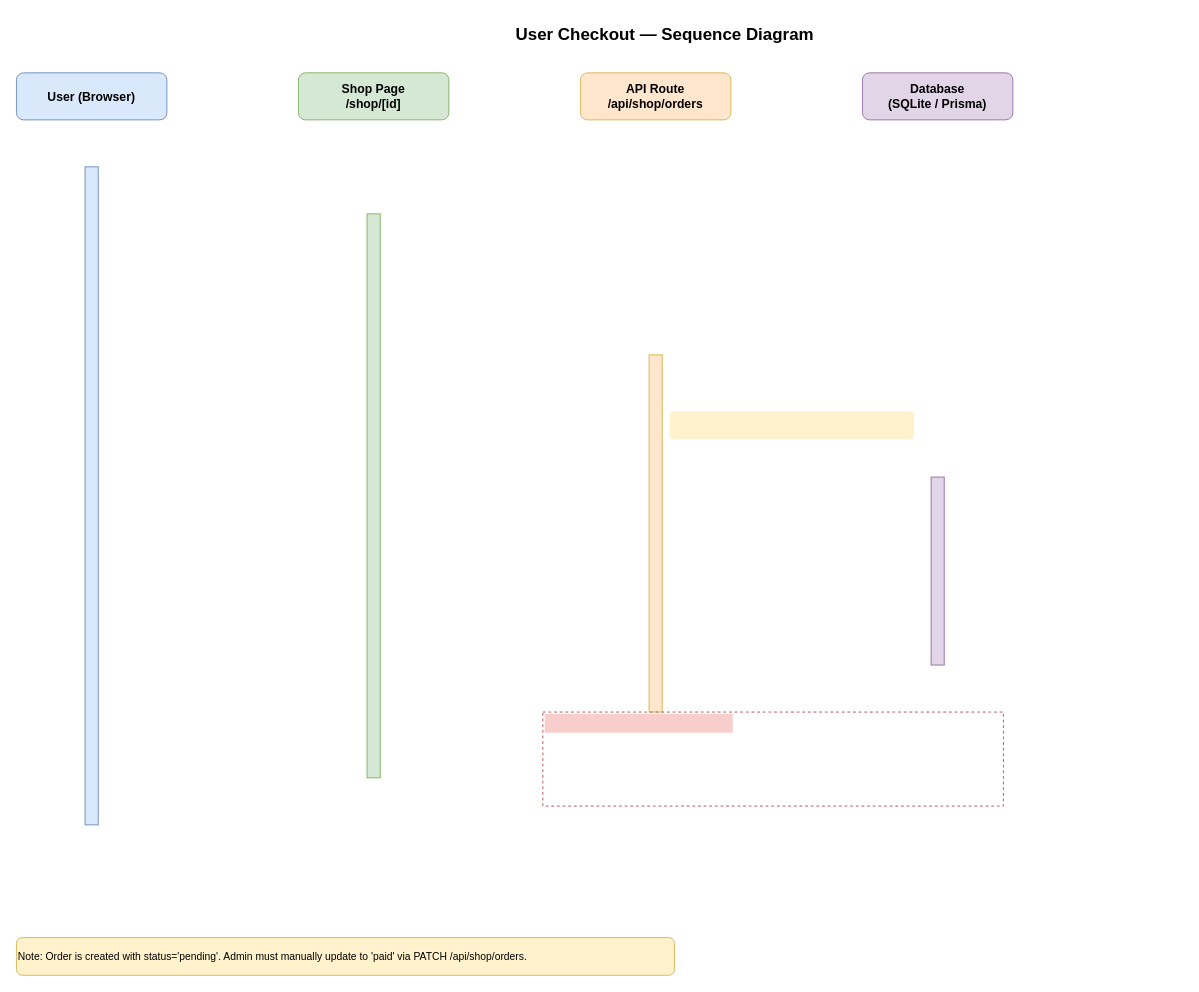
Image size: 1199x992. Some labels were removed from this diagram. Here are the shapes that lost their labels. From the top down, the centre of each, then its label:
At point 791,425: "6. Zod validation + generate orderNumber".
At point 638,722: "alt [Zod validation fails]".
